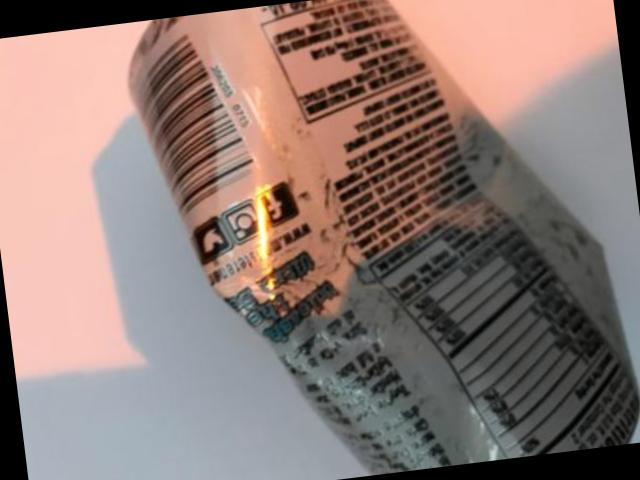metal: (126, 0, 635, 475)
